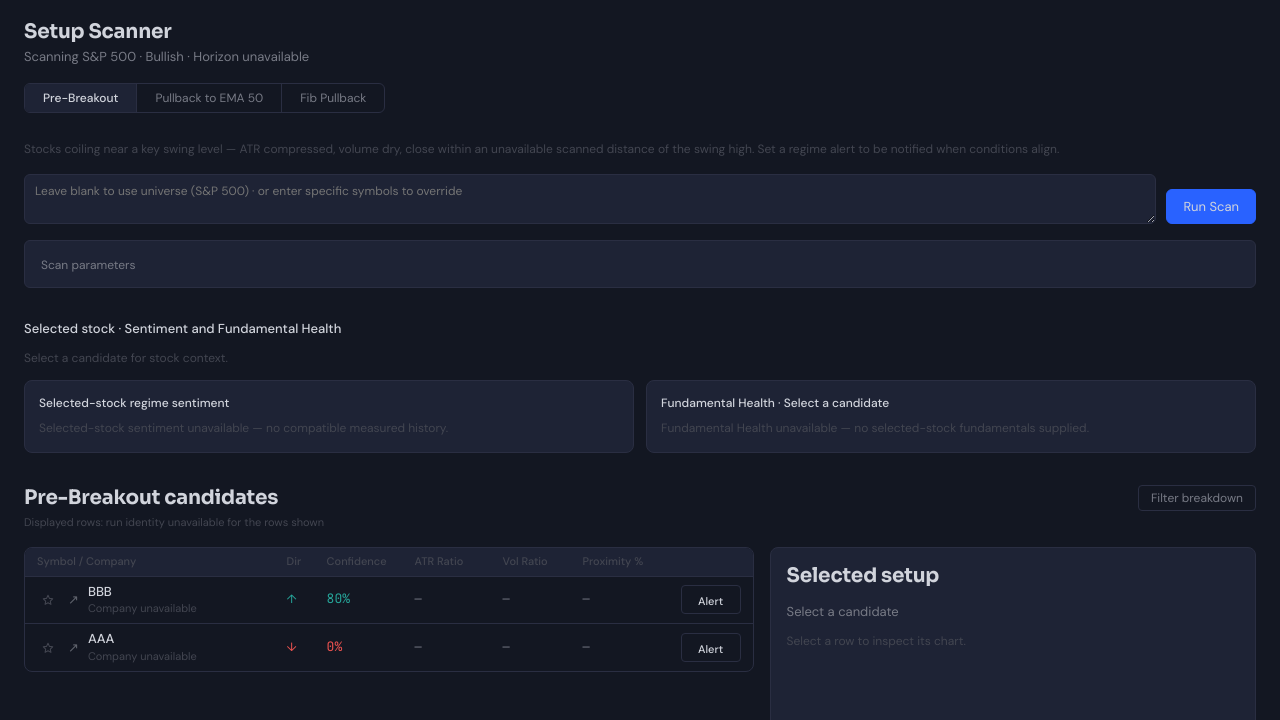
Test case: selected symbol only is fetched; headline, publisher, date and a safe external original link render; sentiment never shown
Click the button with aria-label "Select AAA" at (142, 656), box [25, 624, 753, 671]
(page scrolled)
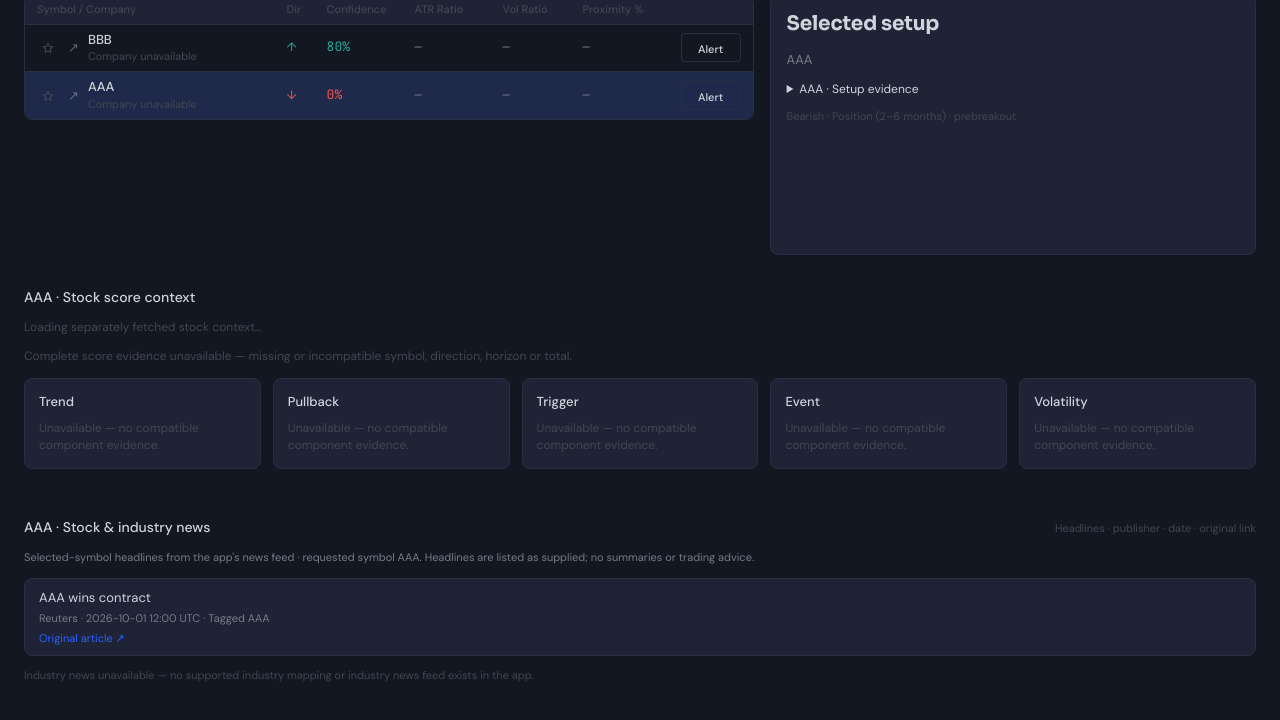
Now the text "AAA · Stock & industry news" is shown, box [24, 517, 210, 538]
Now the text "AAA wins contract" is shown, box [39, 588, 151, 606]
Now the text "Reuters · 2026-10-01 12:00 UTC · Tagged AAA" is shown, box [39, 611, 270, 625]
